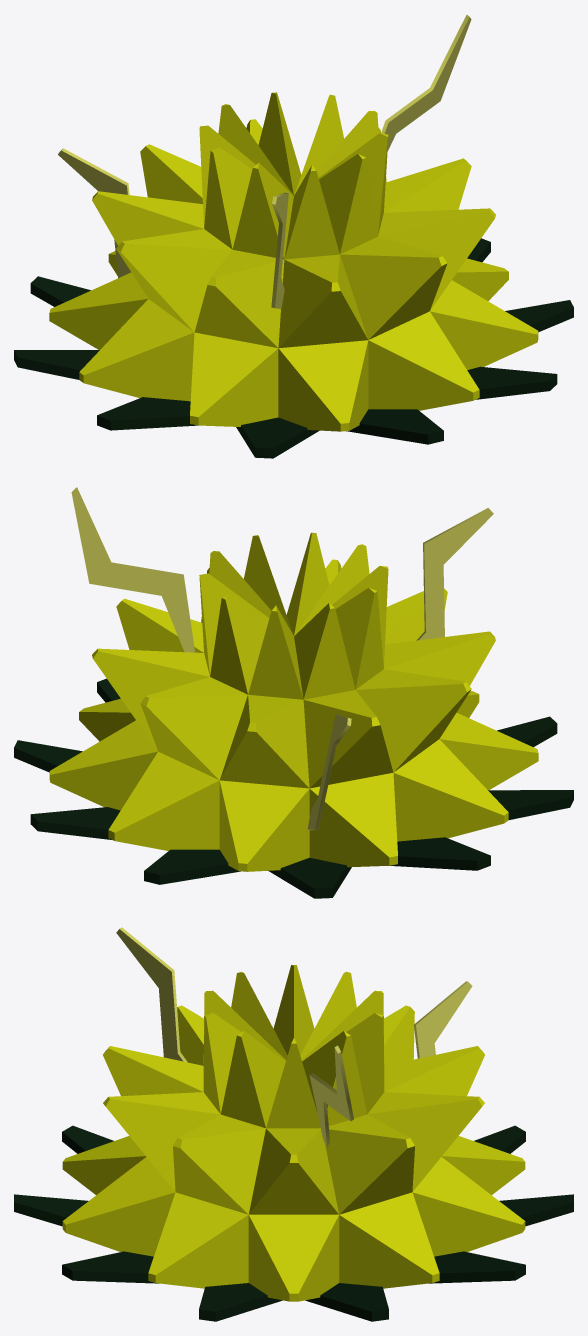
The model's file is lightning fruit.fbx.
3 renders of one model, top to bottom at view 1: azimuth 30°, elevation 25°; view 2: azimuth 150°, elevation 25°; view 3: azimuth 270°, elevation 25°, orthographic.
Visible parts, largest first — view 1: Sphere002, Cylinder002; view 2: Sphere002, Cylinder002; view 3: Sphere002, Cylinder002.
Part boxes in pixels (x1,y1,x2,y2): Sphere002: (49,15,538,431); Cylinder002: (14,238,573,458); Sphere002: (49,487,538,871); Cylinder002: (14,678,573,898); Sphere002: (62,927,525,1301); Cylinder002: (14,1125,573,1321).
Bounding box in the file's own units: 47.01 × 27.36 × 48.92.
